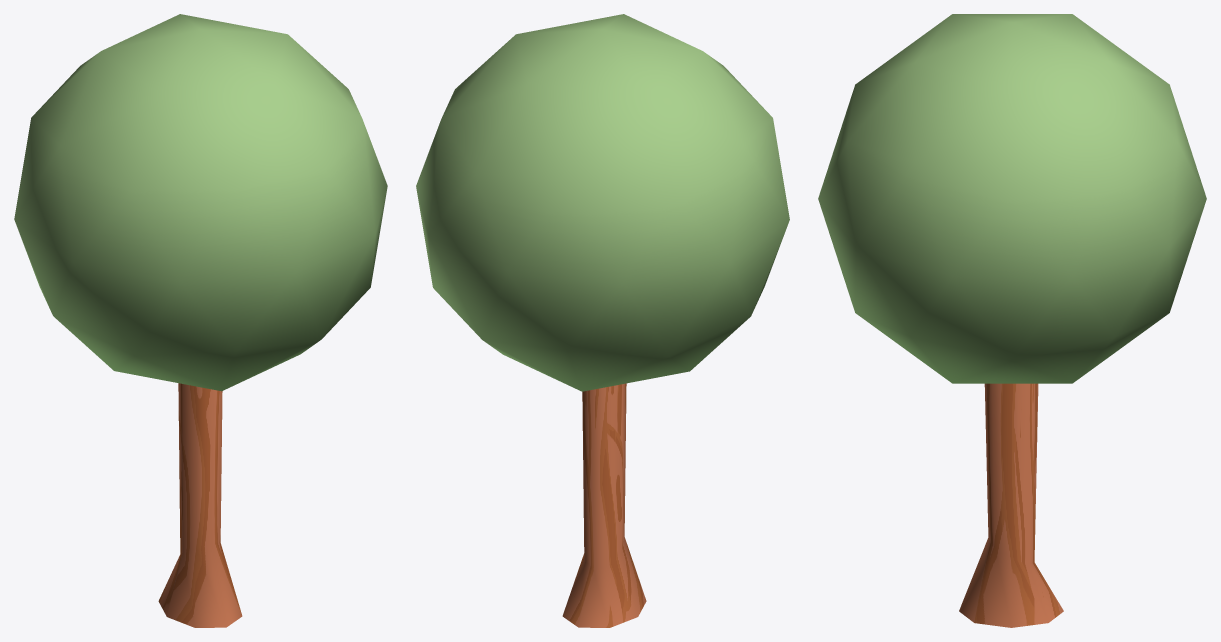
File: OBJ_Tree_002.fbx
3 views of the same model, side by side, from view 1: azimuth 30°, elevation 25°; view 2: azimuth 150°, elevation 25°; view 3: azimuth 270°, elevation 25° (orthographic).
Parts seen in each view (by area): view 1: Tree_002; view 2: Tree_002; view 3: Tree_002.
Boxes of the visible parts, left/top/right/bottom form: Tree_002: left=14, top=14, right=387, bottom=627; Tree_002: left=416, top=14, right=789, bottom=627; Tree_002: left=818, top=14, right=1206, bottom=627.
Size of the model in its own units: 3485 by 6126 by 3664.
